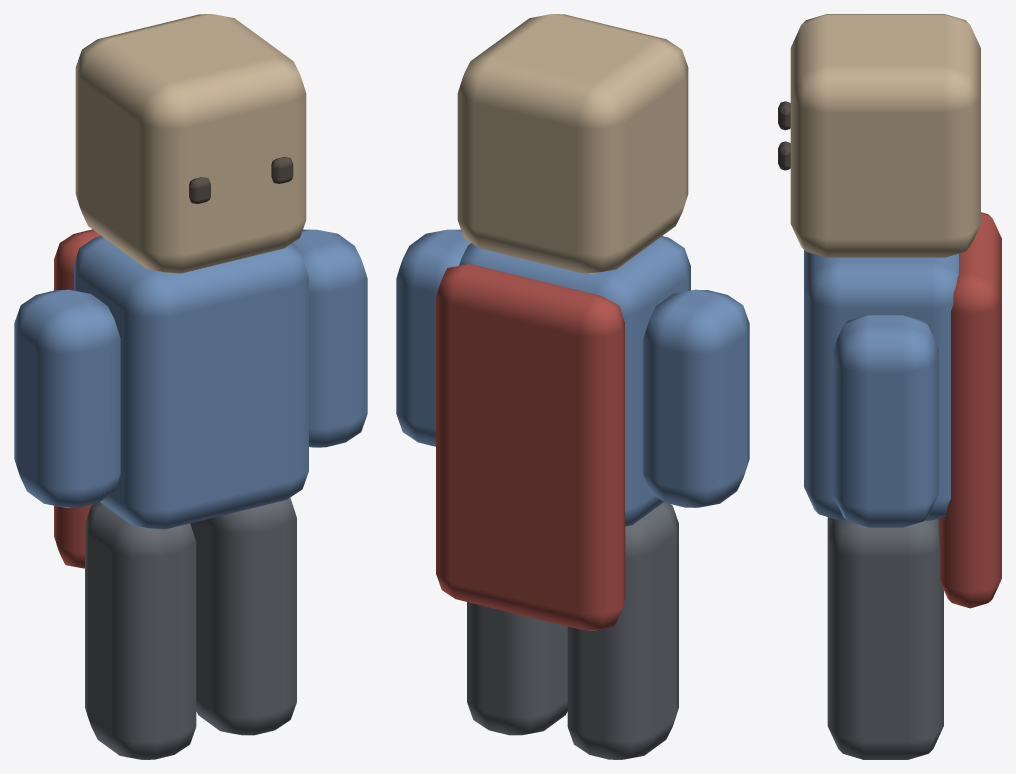
File: hero.glb
The picture shows the model from 3 angles, left to right: view 1: azimuth 30°, elevation 25°; view 2: azimuth 150°, elevation 25°; view 3: azimuth 270°, elevation 25°; orthographic projection.
Visible parts, largest first — view 1: body, head, legL, legR, armL, armR, cape, eyes; view 2: cape, head, armL, legL, body, legR, armR; view 3: head, legR, armR, cape, body, eyes.
Part boxes in pixels (bbox=[...]): body: bbox=[73, 236, 308, 529]; head: bbox=[75, 14, 306, 273]; legL: bbox=[85, 502, 196, 759]; legR: bbox=[190, 498, 296, 735]; armL: bbox=[14, 289, 120, 507]; armR: bbox=[293, 229, 367, 447]; cape: bbox=[54, 229, 100, 568]; eyes: bbox=[189, 157, 293, 203]; cape: bbox=[436, 264, 625, 630]; head: bbox=[457, 14, 688, 273]; armL: bbox=[643, 289, 749, 507]; legL: bbox=[567, 502, 678, 759]; body: bbox=[459, 236, 690, 526]; legR: bbox=[467, 602, 567, 735]; armR: bbox=[396, 229, 470, 446]; head: bbox=[790, 14, 980, 257]; legR: bbox=[827, 519, 943, 759]; armR: bbox=[833, 314, 938, 527]; cape: bbox=[938, 212, 1001, 608]; body: bbox=[804, 250, 958, 520]; eyes: bbox=[778, 101, 790, 170].
Bounding box in the file's own units: 0.95 × 1.9 × 0.5595.
